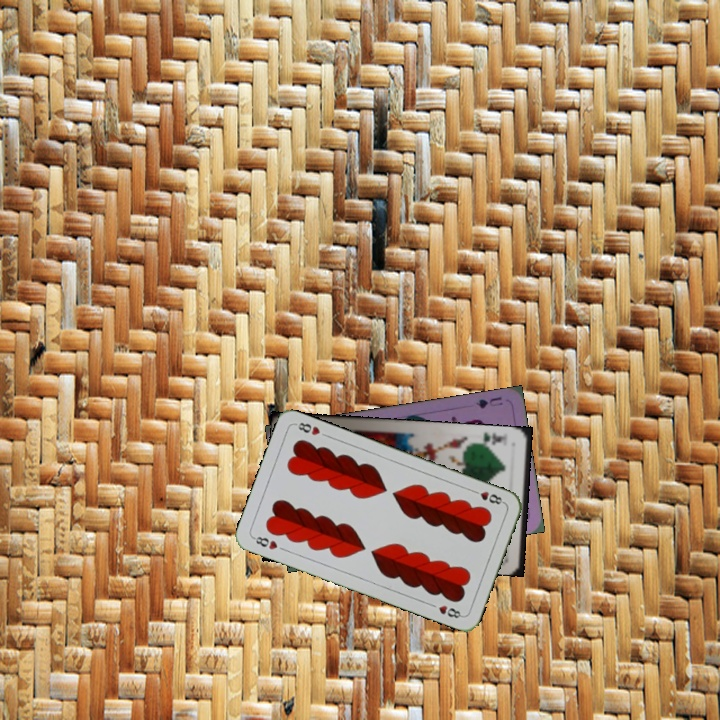GK: (474, 429, 507, 448)
GU: (472, 392, 505, 411)
H8: (468, 486, 507, 507), (249, 532, 280, 552)
